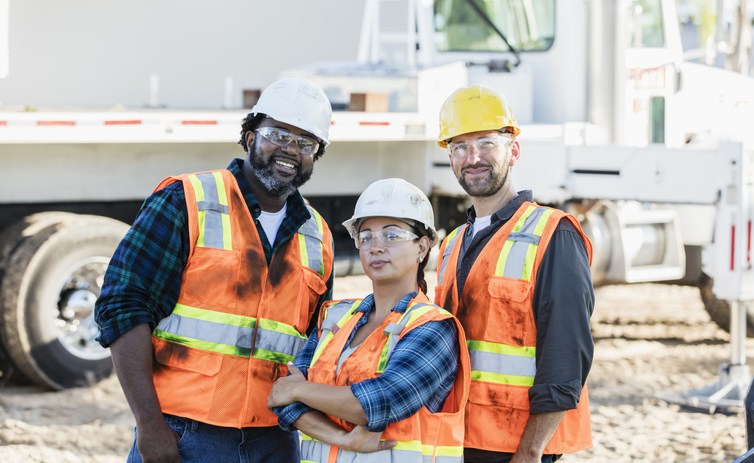Safety Helmet: (227, 62, 342, 223), (429, 71, 539, 211), (345, 173, 443, 308)
